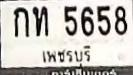5: (96, 5, 110, 35), (63, 5, 77, 35)
6: (80, 5, 93, 35)
8: (114, 5, 126, 34)
A01: (13, 6, 28, 37)
A23: (32, 5, 48, 36)
PBI: (37, 42, 95, 67)
